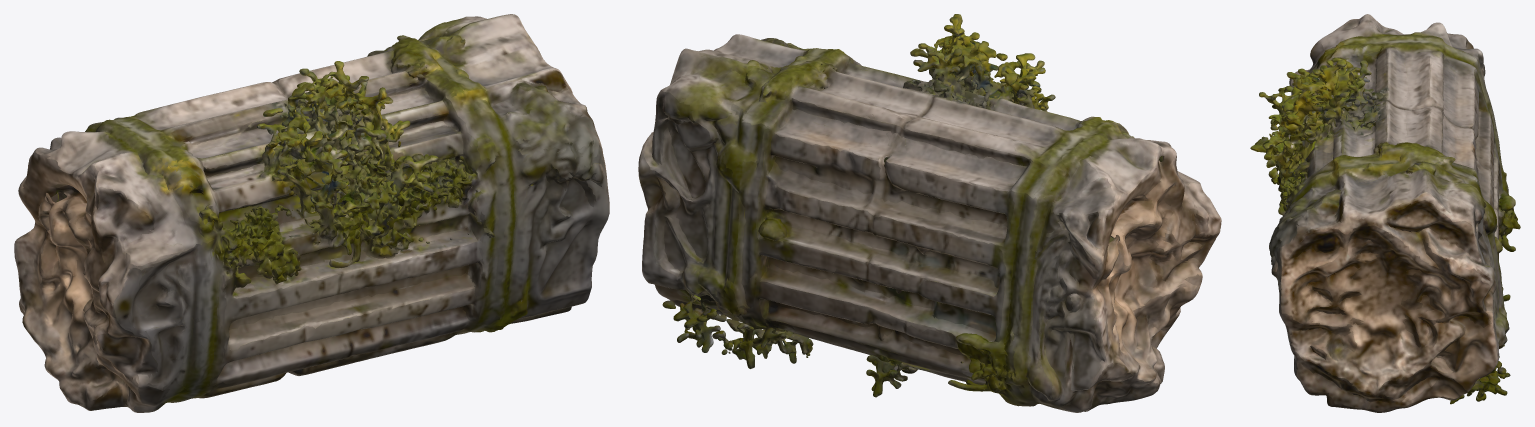
Rendered from BrokenPillar_01.fbx.
3 views of the same model, side by side, from view 1: azimuth 30°, elevation 25°; view 2: azimuth 150°, elevation 25°; view 3: azimuth 270°, elevation 25° (orthographic). The views are drawn at different scales.
Visible parts, largest first — view 1: geometry_0; view 2: geometry_0; view 3: geometry_0.
Boxes of the visible parts, x1=… form: geometry_0: x1=14, y1=14, x2=609, y2=412; geometry_0: x1=638, y1=14, x2=1221, y2=412; geometry_0: x1=1250, y1=14, x2=1520, y2=412.
Bounding box in the file's own units: 120 × 75.08 × 66.48.
